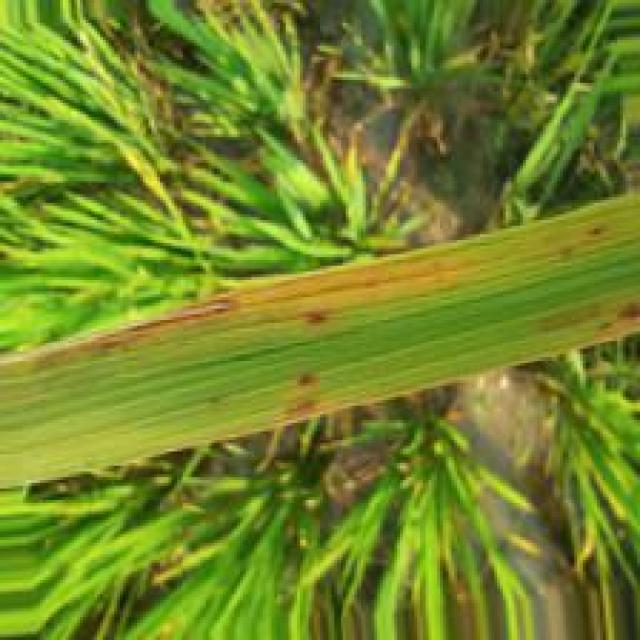Brown_Spot: (86, 294, 239, 353), (282, 394, 327, 425), (294, 369, 325, 393), (298, 309, 330, 327), (614, 297, 640, 319), (583, 222, 613, 238)
